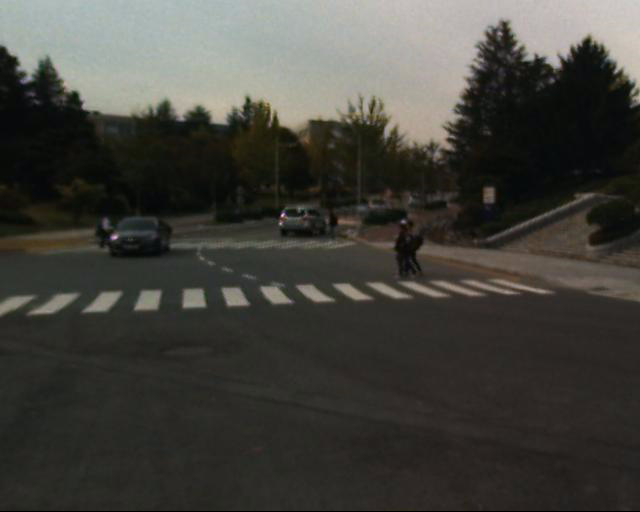person: (383, 217, 426, 282), (97, 215, 117, 254), (326, 207, 346, 246)
